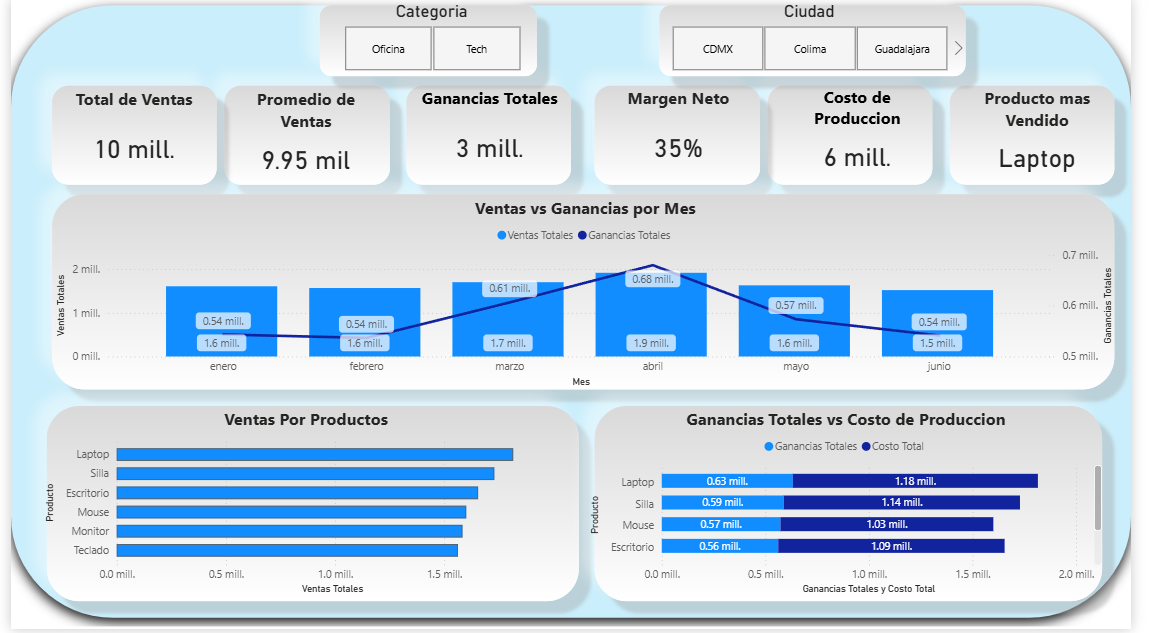

The dashboard page shown, as its layout file describes it:
{"tool":"powerbi","page":{"name":"Página 1","canvas":[1280,720],"ordinal":0},"visuals":[{"type":"barChart","title":"Ventas Por Productos","fields":{"Category":["Sales_Month.Producto"],"Y":["Sales_Month.Total_Sales"]},"box":[34.3,467.1,605.7,218.6],"z":0},{"type":"card","title":"Total de Ventas","fields":{"Values":["Sales_Month.Total_Sales"]},"box":[51.4,101.4,178.6,112.9],"z":1000},{"type":"card","title":"Ganancias Totales","fields":{"Values":["Sales_Month.Total_Earnings"]},"box":[454.3,100,185.7,112.9],"z":2000},{"type":"card","title":"Margen Neto","fields":{"Values":["Sales_Month.Margen%"]},"box":[670,100,185.7,112.9],"z":3000},{"type":"slicer","title":"Categoria","fields":{"Values":["Sales_Month.Categoria"]},"box":[355.7,2.9,250,85.7],"z":4000},{"type":"slicer","title":"Ciudad","fields":{"Values":["Sales_Month.Ciudad"]},"box":[734.3,2.9,364.3,85.7],"z":5000},{"type":"card","title":"Costo Produccion","fields":{"Values":["Sales_Month.Total_Cost"]},"box":[874.3,98.6,185.7,111.4],"z":6000},{"type":"lineStackedColumnComboChart","title":"Ventas vs Ganancias por Mes","fields":{"Category":["Sales_Month.Fecha.Variación.Jerarquía de fechas.Mes"],"Y":["Sales_Month.Total_Sales"],"Y2":["Sales_Month.Total_Earnings"]},"box":[47.1,225.7,1218.6,222.9],"z":7000},{"type":"card","title":"Promedio Ventas","fields":{"Values":["Sales_Month.Average_Sales"]},"box":[244.3,101.4,185.7,111.4],"z":8000},{"type":"barChart","title":"Rentabilidad por Producto","fields":{"Y":["Sales_Month.Ganancias Totales","Sales_Month.Costo Total"],"Category":["Sales_Month.Producto"]},"box":[670,467.1,574.3,218.6],"z":9000},{"type":"card","title":"Producto Top","fields":{"Values":["Sales_Month.Top_Producto"]},"box":[1080,100,185.7,110],"z":10000}]}

Visuals, with their boxes in screenshot pixels (x1, y1, x2, y2), scaled from the page's 1280x720 canvas onto the 1149x633 screenshot:
"Ventas Por Productos" barChart: [31, 411, 574, 603]
"Total de Ventas" card: [46, 89, 206, 188]
"Ganancias Totales" card: [408, 88, 574, 187]
"Margen Neto" card: [601, 88, 768, 187]
"Categoria" slicer: [319, 3, 544, 78]
"Ciudad" slicer: [659, 3, 986, 78]
"Costo Produccion" card: [785, 87, 952, 185]
"Ventas vs Ganancias por Mes" lineStackedColumnComboChart: [42, 198, 1136, 394]
"Promedio Ventas" card: [219, 89, 386, 187]
"Rentabilidad por Producto" barChart: [601, 411, 1117, 603]
"Producto Top" card: [969, 88, 1136, 185]
